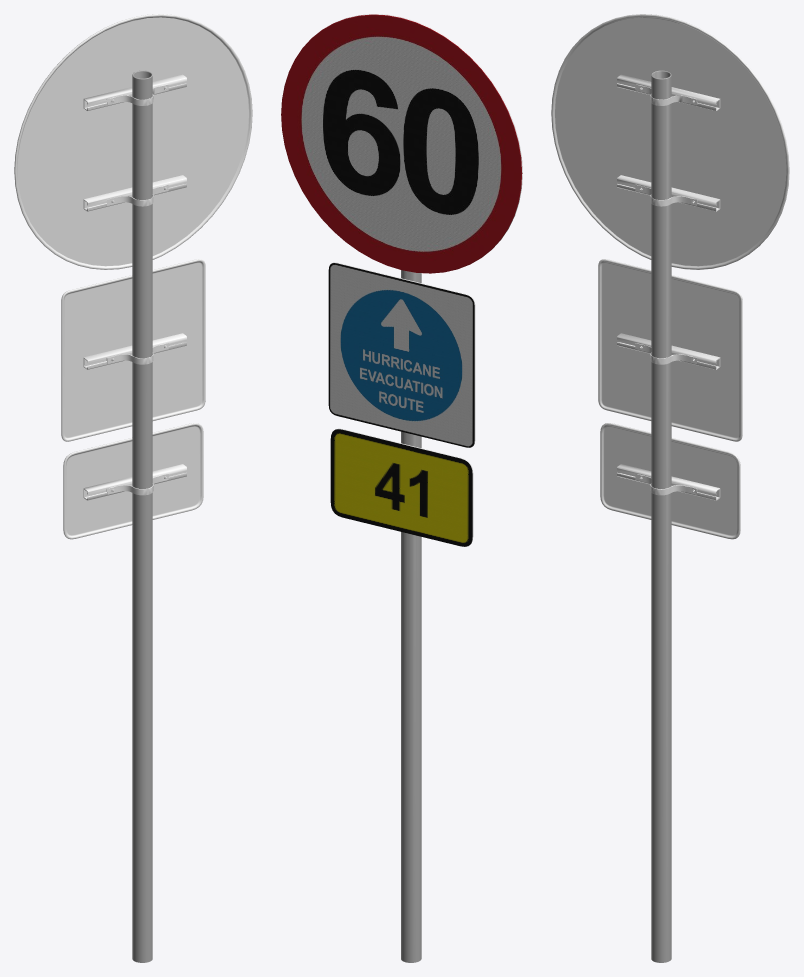
Rendered from o3_segnale_01.glb.
3 renders of one model, left to right at view 1: azimuth 30°, elevation 25°; view 2: azimuth 150°, elevation 25°; view 3: azimuth 330°, elevation 25°, orthographic.
Parts seen in each view (by area): view 1: sb_modello; view 2: sb_modello; view 3: sb_modello.
Boxes of the visible parts, box(x1,y1,x2,y2) form: sb_modello: box(14, 14, 252, 962); sb_modello: box(281, 14, 522, 962); sb_modello: box(551, 14, 789, 962).
Size of the model in its own units: 0.7672 by 2.88 by 0.0845.
Materials: 7 (3 with a texture image).
